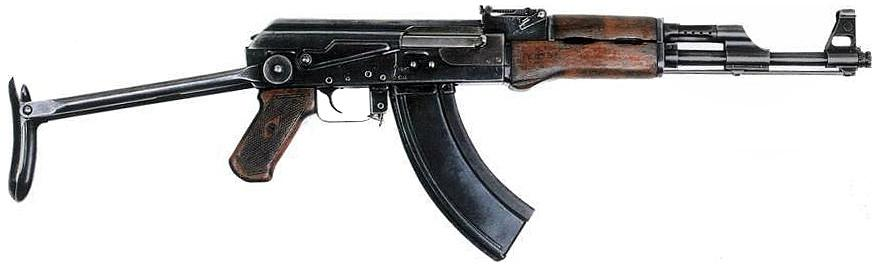blood: (2, 0, 880, 267)
